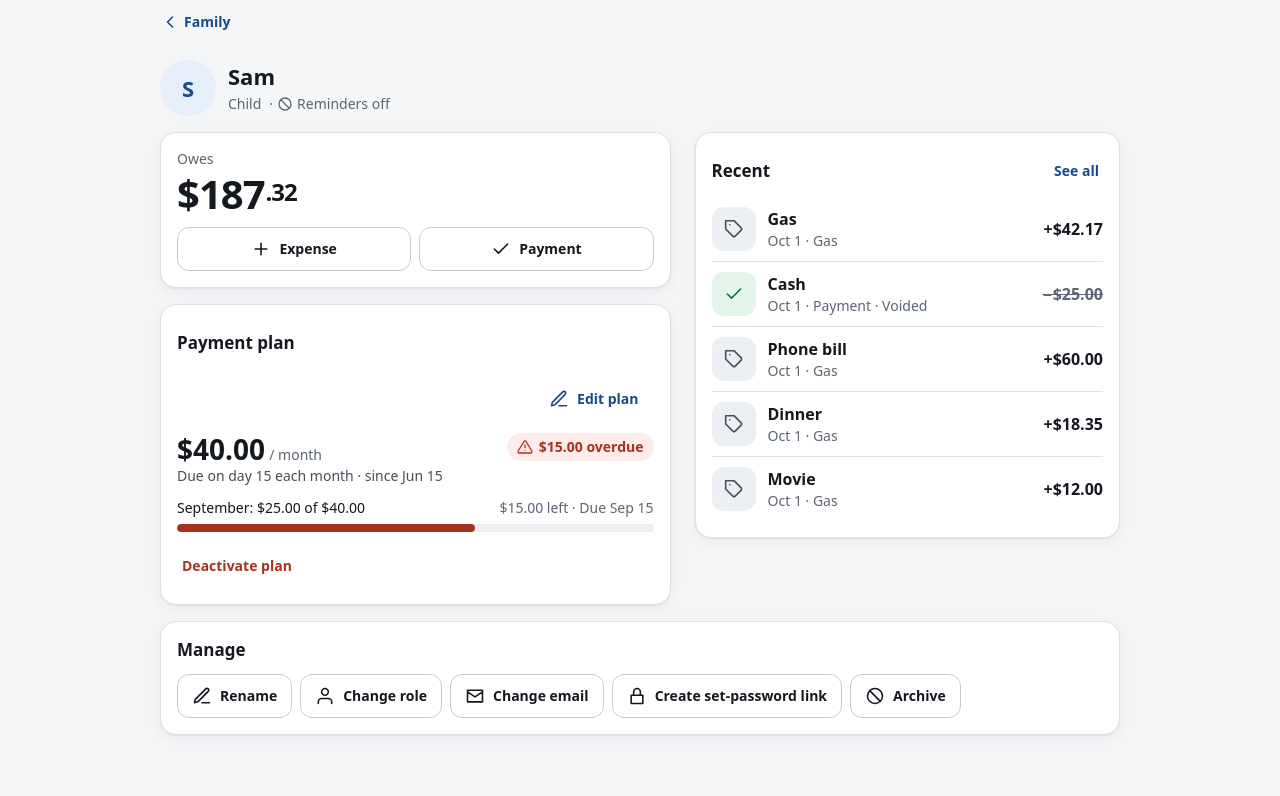
Test: FamilyMemberPage: payment plan editing › shows the deactivation error and keeps the confirmation open
Click the button "Deactivate plan" at (237, 566), box [177,544,297,588]
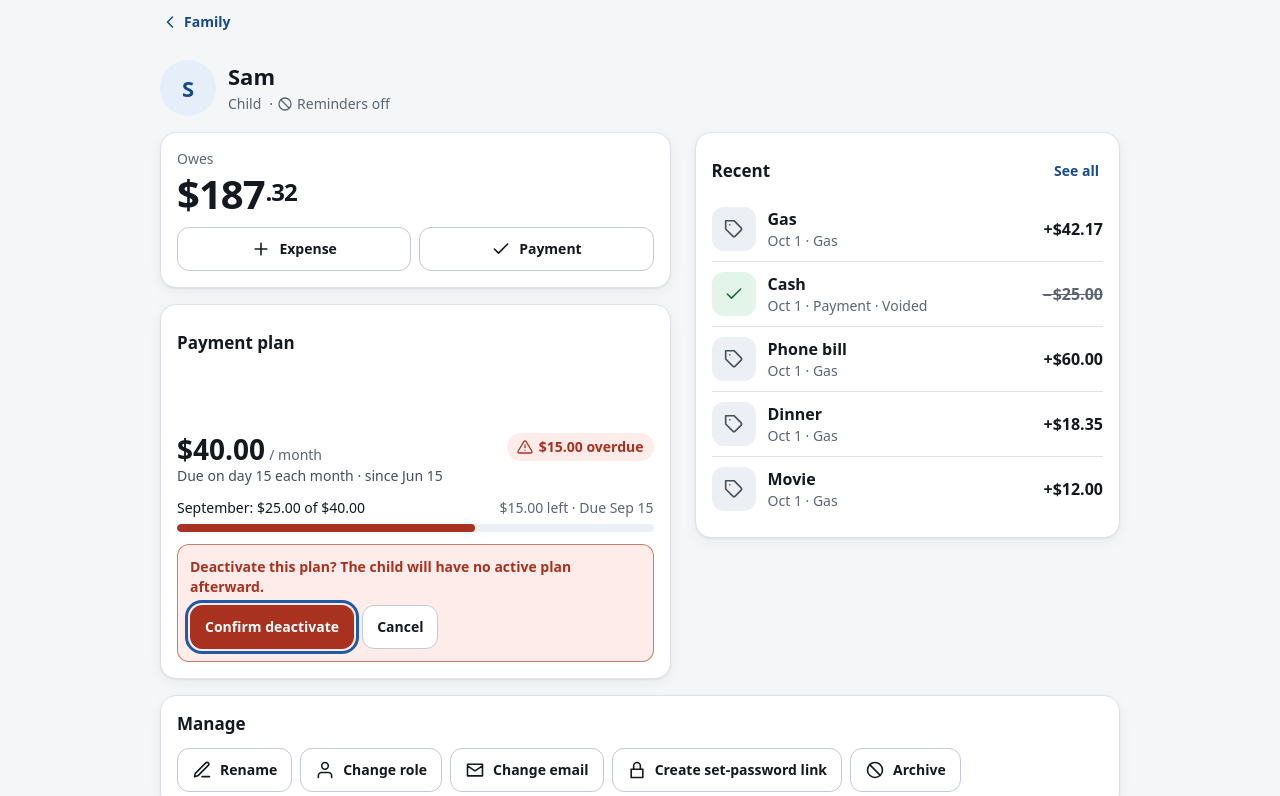
Click the button "Confirm deactivate" at (272, 627), box [190,605,354,649]
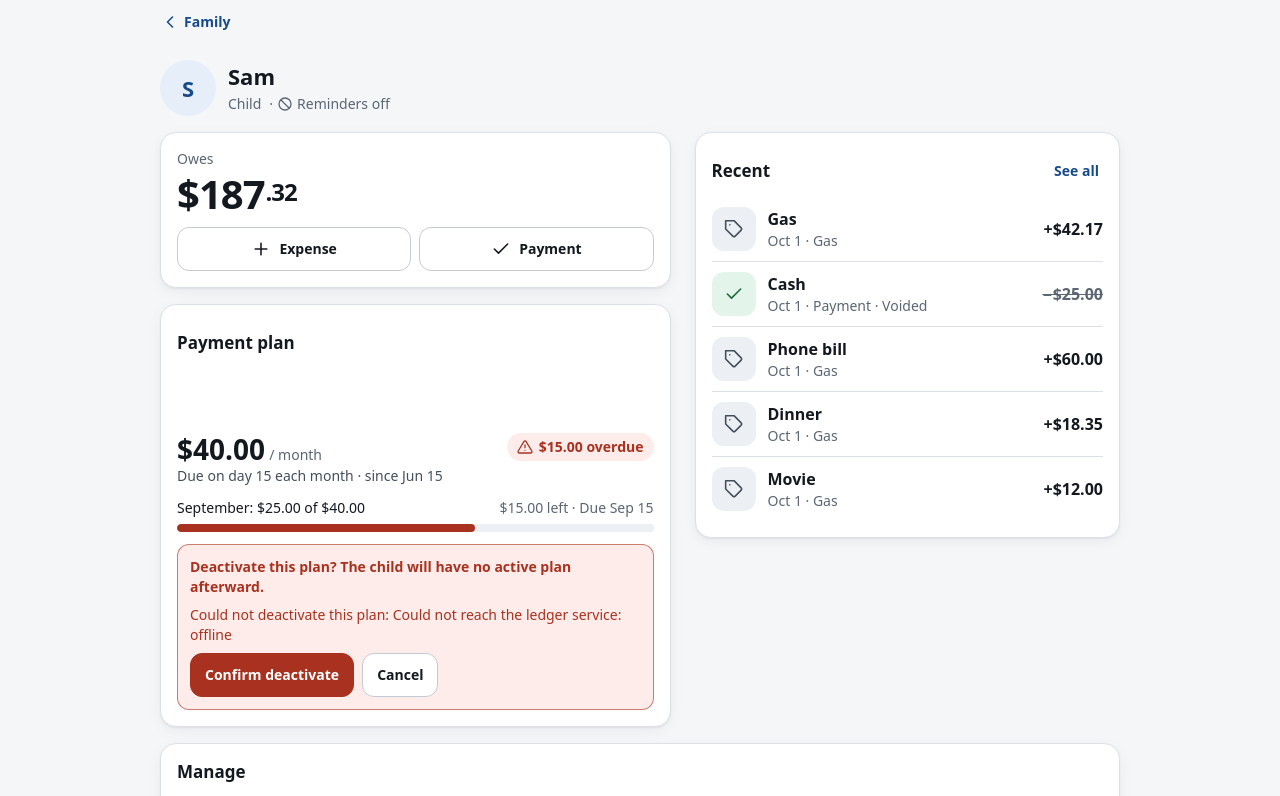
Expected: the button "Confirm deactivate" is enabled, [190,653,354,697]
Expected: the message reads "Could not deactivate this plan: Could not reach the ledger service: offline", [190,605,640,645]
